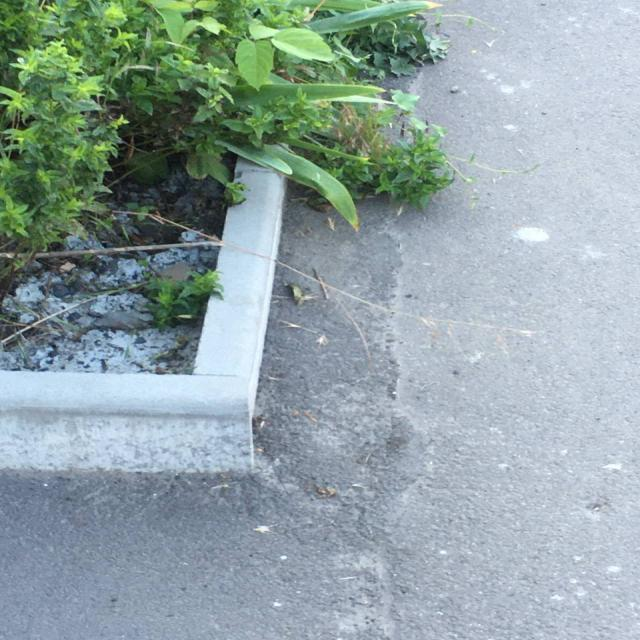bump: (191, 155, 313, 458), (0, 353, 280, 472)
